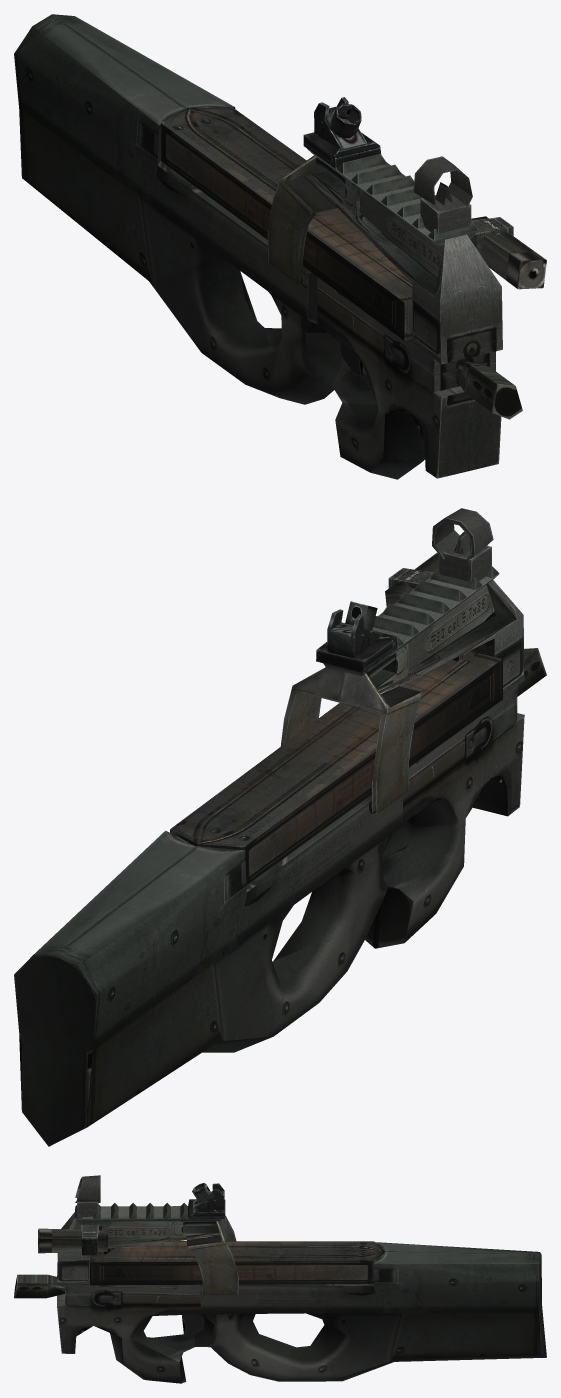
The picture shows the model from 3 angles, top to bottom: view 1: azimuth 30°, elevation 25°; view 2: azimuth 150°, elevation 25°; view 3: azimuth 270°, elevation 25°; orthographic projection. The views are drawn at different scales.
Parts seen in each view (by area): view 1: sm4_p90; view 2: sm4_p90; view 3: sm4_p90.
Boxes of the visible parts, <box> form: sm4_p90: <box>14,14,546,479</box>; sm4_p90: <box>14,508,546,1146</box>; sm4_p90: <box>14,1175,546,1383</box>.
Size of the model in its own units: 7.36 by 22.46 by 53.04.
